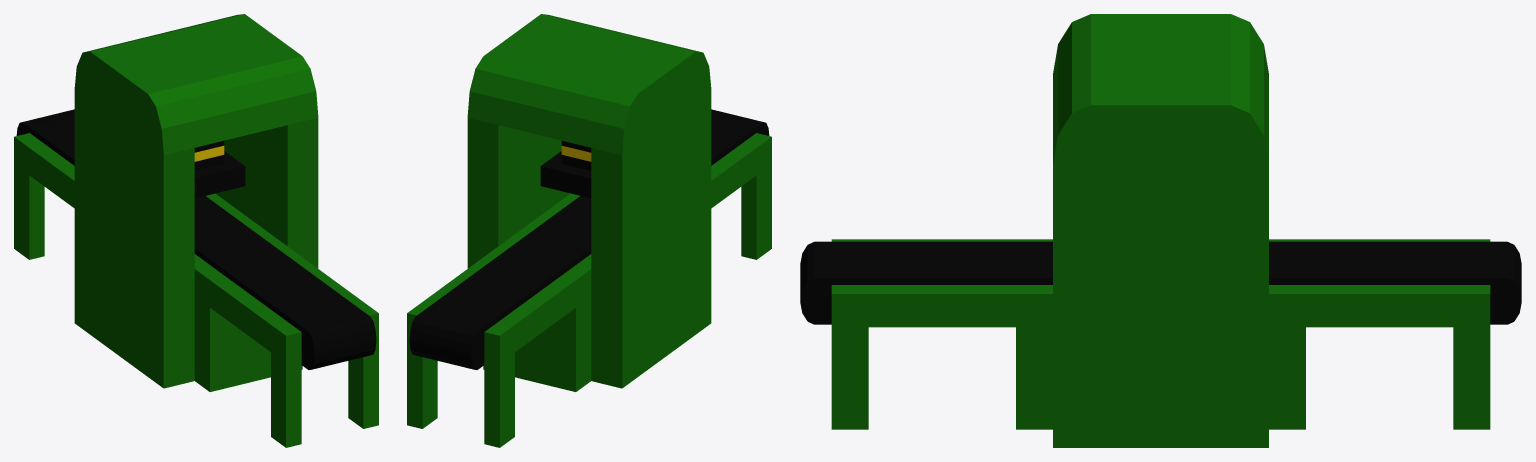
Rendered from Recycled Crusher.fbx.
The picture shows the model from 3 angles, left to right: view 1: azimuth 30°, elevation 25°; view 2: azimuth 150°, elevation 25°; view 3: azimuth 270°, elevation 25°; orthographic projection. The views are drawn at different scales.
Parts seen in each view (by area): view 1: Cube.001; view 2: Cube.001; view 3: Cube.001.
Boxes of the visible parts, <box> form: Cube.001: <box>14,14,378,447</box>; Cube.001: <box>407,14,771,447</box>; Cube.001: <box>800,14,1521,447</box>.
Size of the model in its own units: 200 by 350 by 667.
